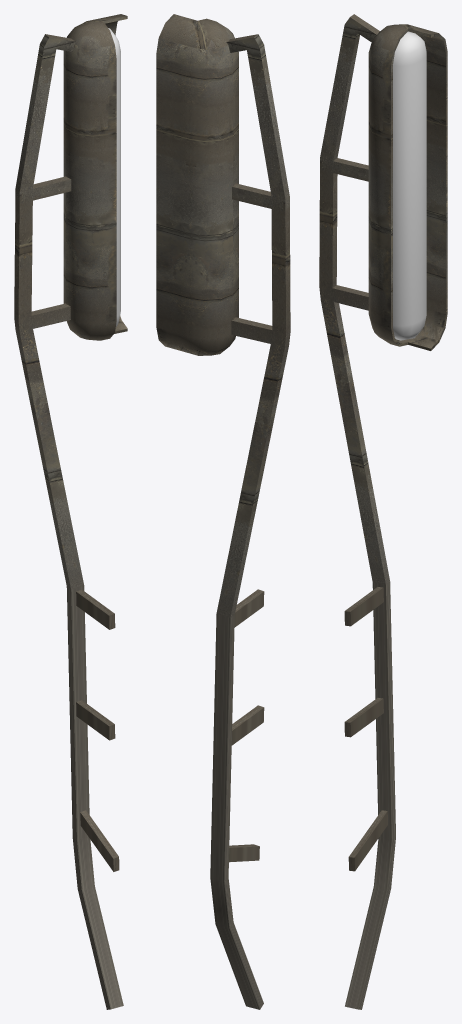
Rendered from CouloirTouffu_Block_06.fbx.
3 renders of one model, left to right at view 1: azimuth 30°, elevation 25°; view 2: azimuth 150°, elevation 25°; view 3: azimuth 330°, elevation 25°, orthographic. The views are drawn at different scales.
Parts seen in each view (by area): view 1: CouloirTouffu_Block_06; view 2: CouloirTouffu_Block_06; view 3: CouloirTouffu_Block_06.
Part boxes in pixels (bbox=[...]): CouloirTouffu_Block_06: bbox=[14, 14, 127, 1009]; CouloirTouffu_Block_06: bbox=[156, 14, 290, 1009]; CouloirTouffu_Block_06: bbox=[319, 14, 447, 1009].
Bounding box in the file's own units: 98.35 × 805 × 77.17.
